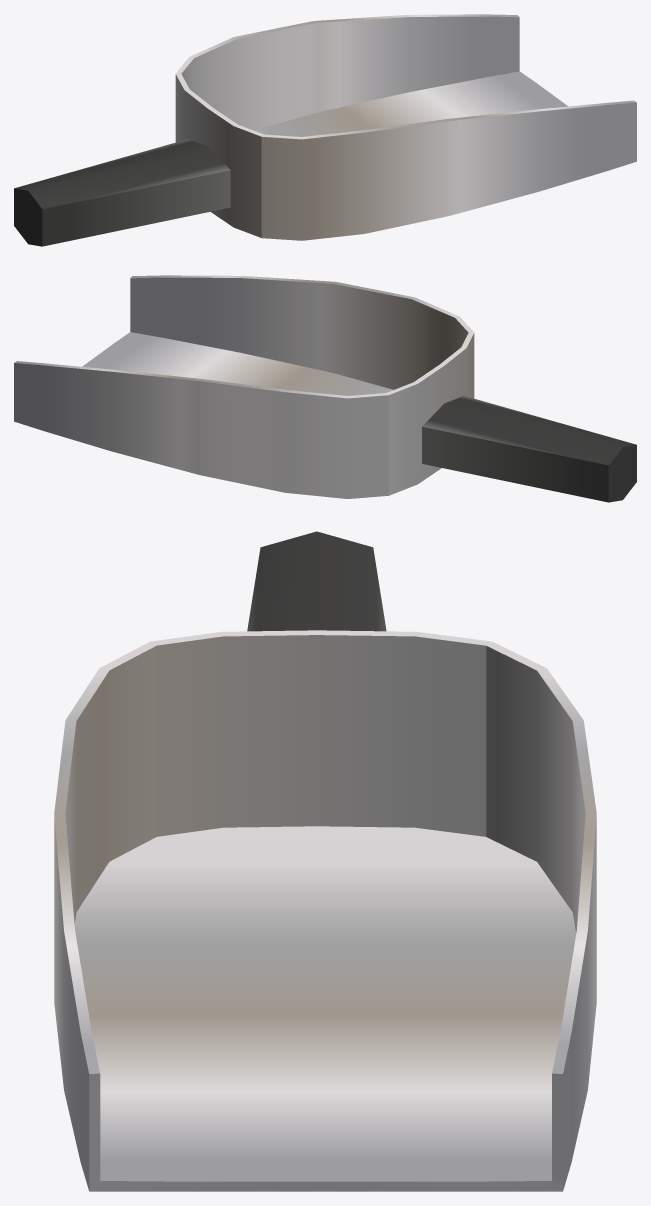
Rendered from MeatCollectTool.fbx.
3 renders of one model, top to bottom at view 1: azimuth 30°, elevation 25°; view 2: azimuth 150°, elevation 25°; view 3: azimuth 270°, elevation 25°, orthographic. The views are drawn at different scales.
Parts seen in each view (by area): view 1: MeatCollectTool; view 2: MeatCollectTool; view 3: MeatCollectTool.
Boxes of the visible parts, x1,y1,x2,y2 form: MeatCollectTool: (14,14,636,246); MeatCollectTool: (14,275,636,502); MeatCollectTool: (54,531,596,1191).
Bounding box in the file's own units: 269 × 47.28 × 115.
